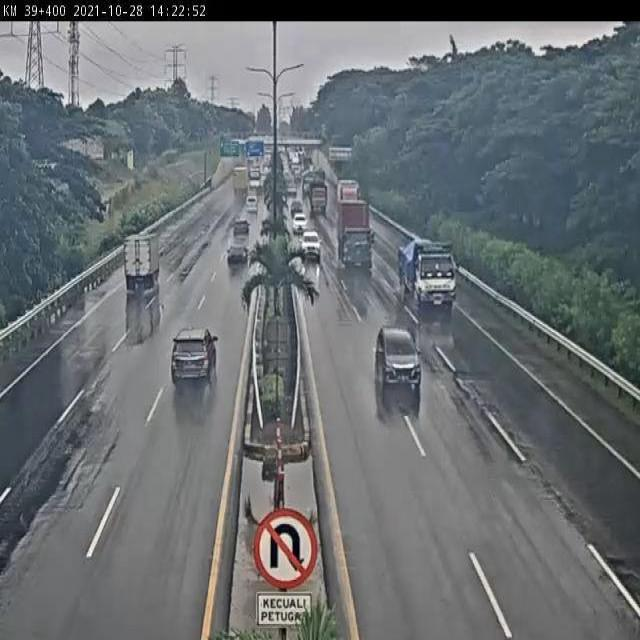car: (375, 324, 424, 392), (170, 327, 219, 383), (298, 231, 324, 263), (227, 241, 248, 268), (292, 215, 310, 237), (233, 219, 251, 237)
truck: (396, 239, 461, 312), (338, 199, 377, 273), (123, 235, 165, 295)
